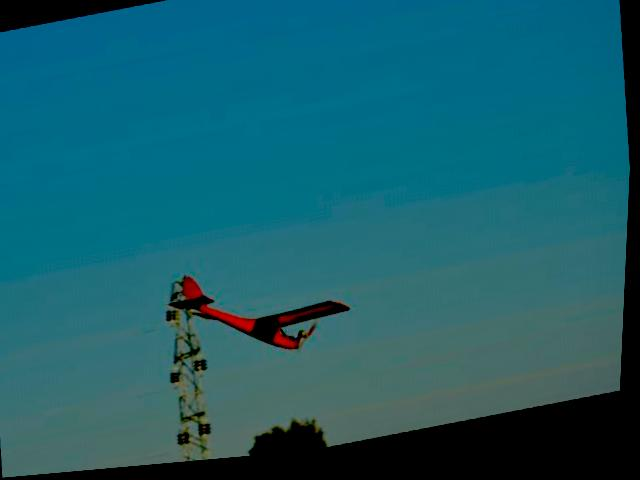iha: (168, 243, 357, 377)
